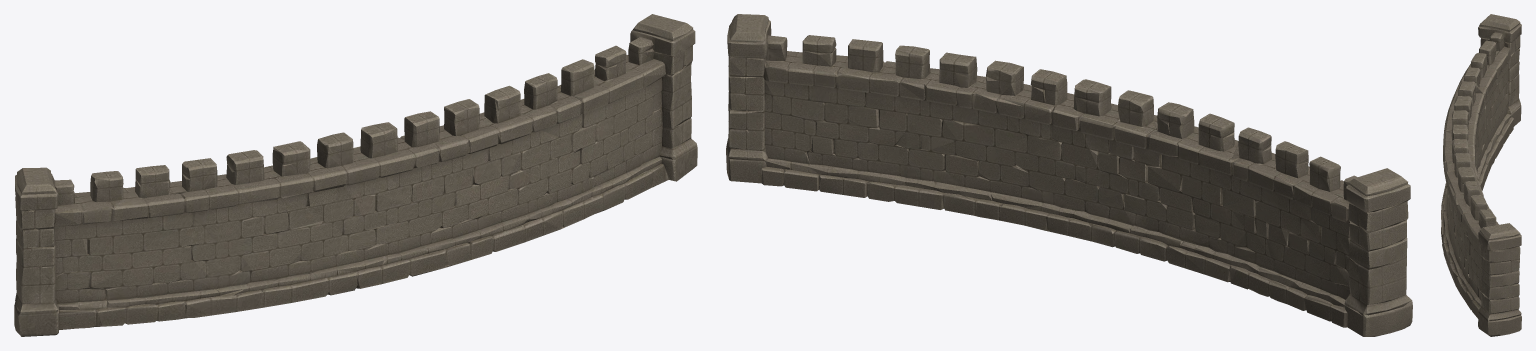
Rendered from inner_wall_segment.glb.
3 views of the same model, side by side, from view 1: azimuth 30°, elevation 25°; view 2: azimuth 150°, elevation 25°; view 3: azimuth 270°, elevation 25° (orthographic). The views are drawn at different scales.
Visible parts, largest first — view 1: output_unwrapped; view 2: output_unwrapped; view 3: output_unwrapped.
Boxes of the visible parts, bbox=[...] form: output_unwrapped: bbox=[14, 14, 697, 336]; output_unwrapped: bbox=[726, 14, 1412, 336]; output_unwrapped: bbox=[1441, 14, 1521, 336].
Bounding box in the file's own units: 1.9 × 0.4054 × 0.2867.
1 material, 1 textured.
